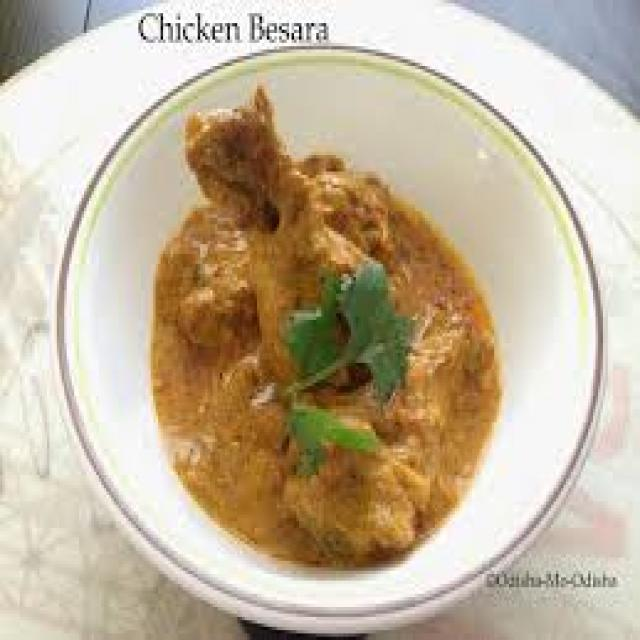Frango: (148, 82, 507, 561)
